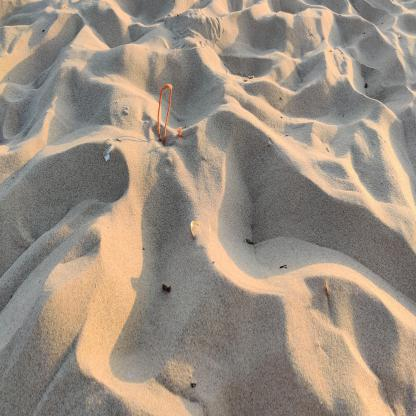diger: (159, 85, 174, 145)
